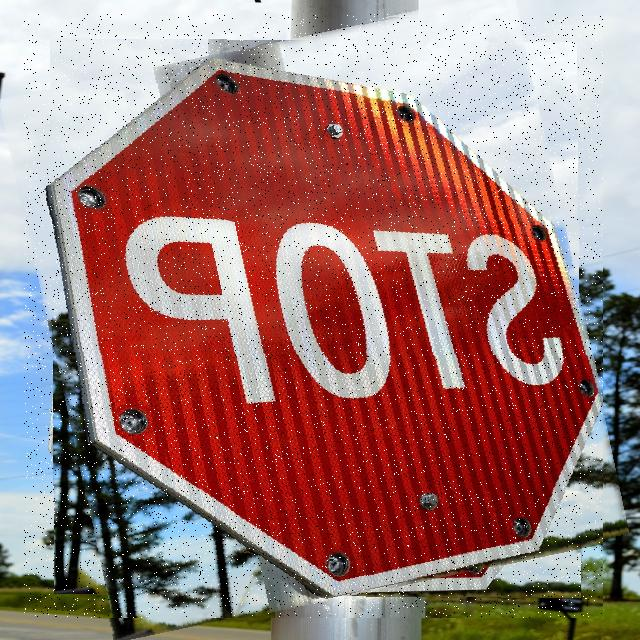stop: (24, 14, 603, 618)
